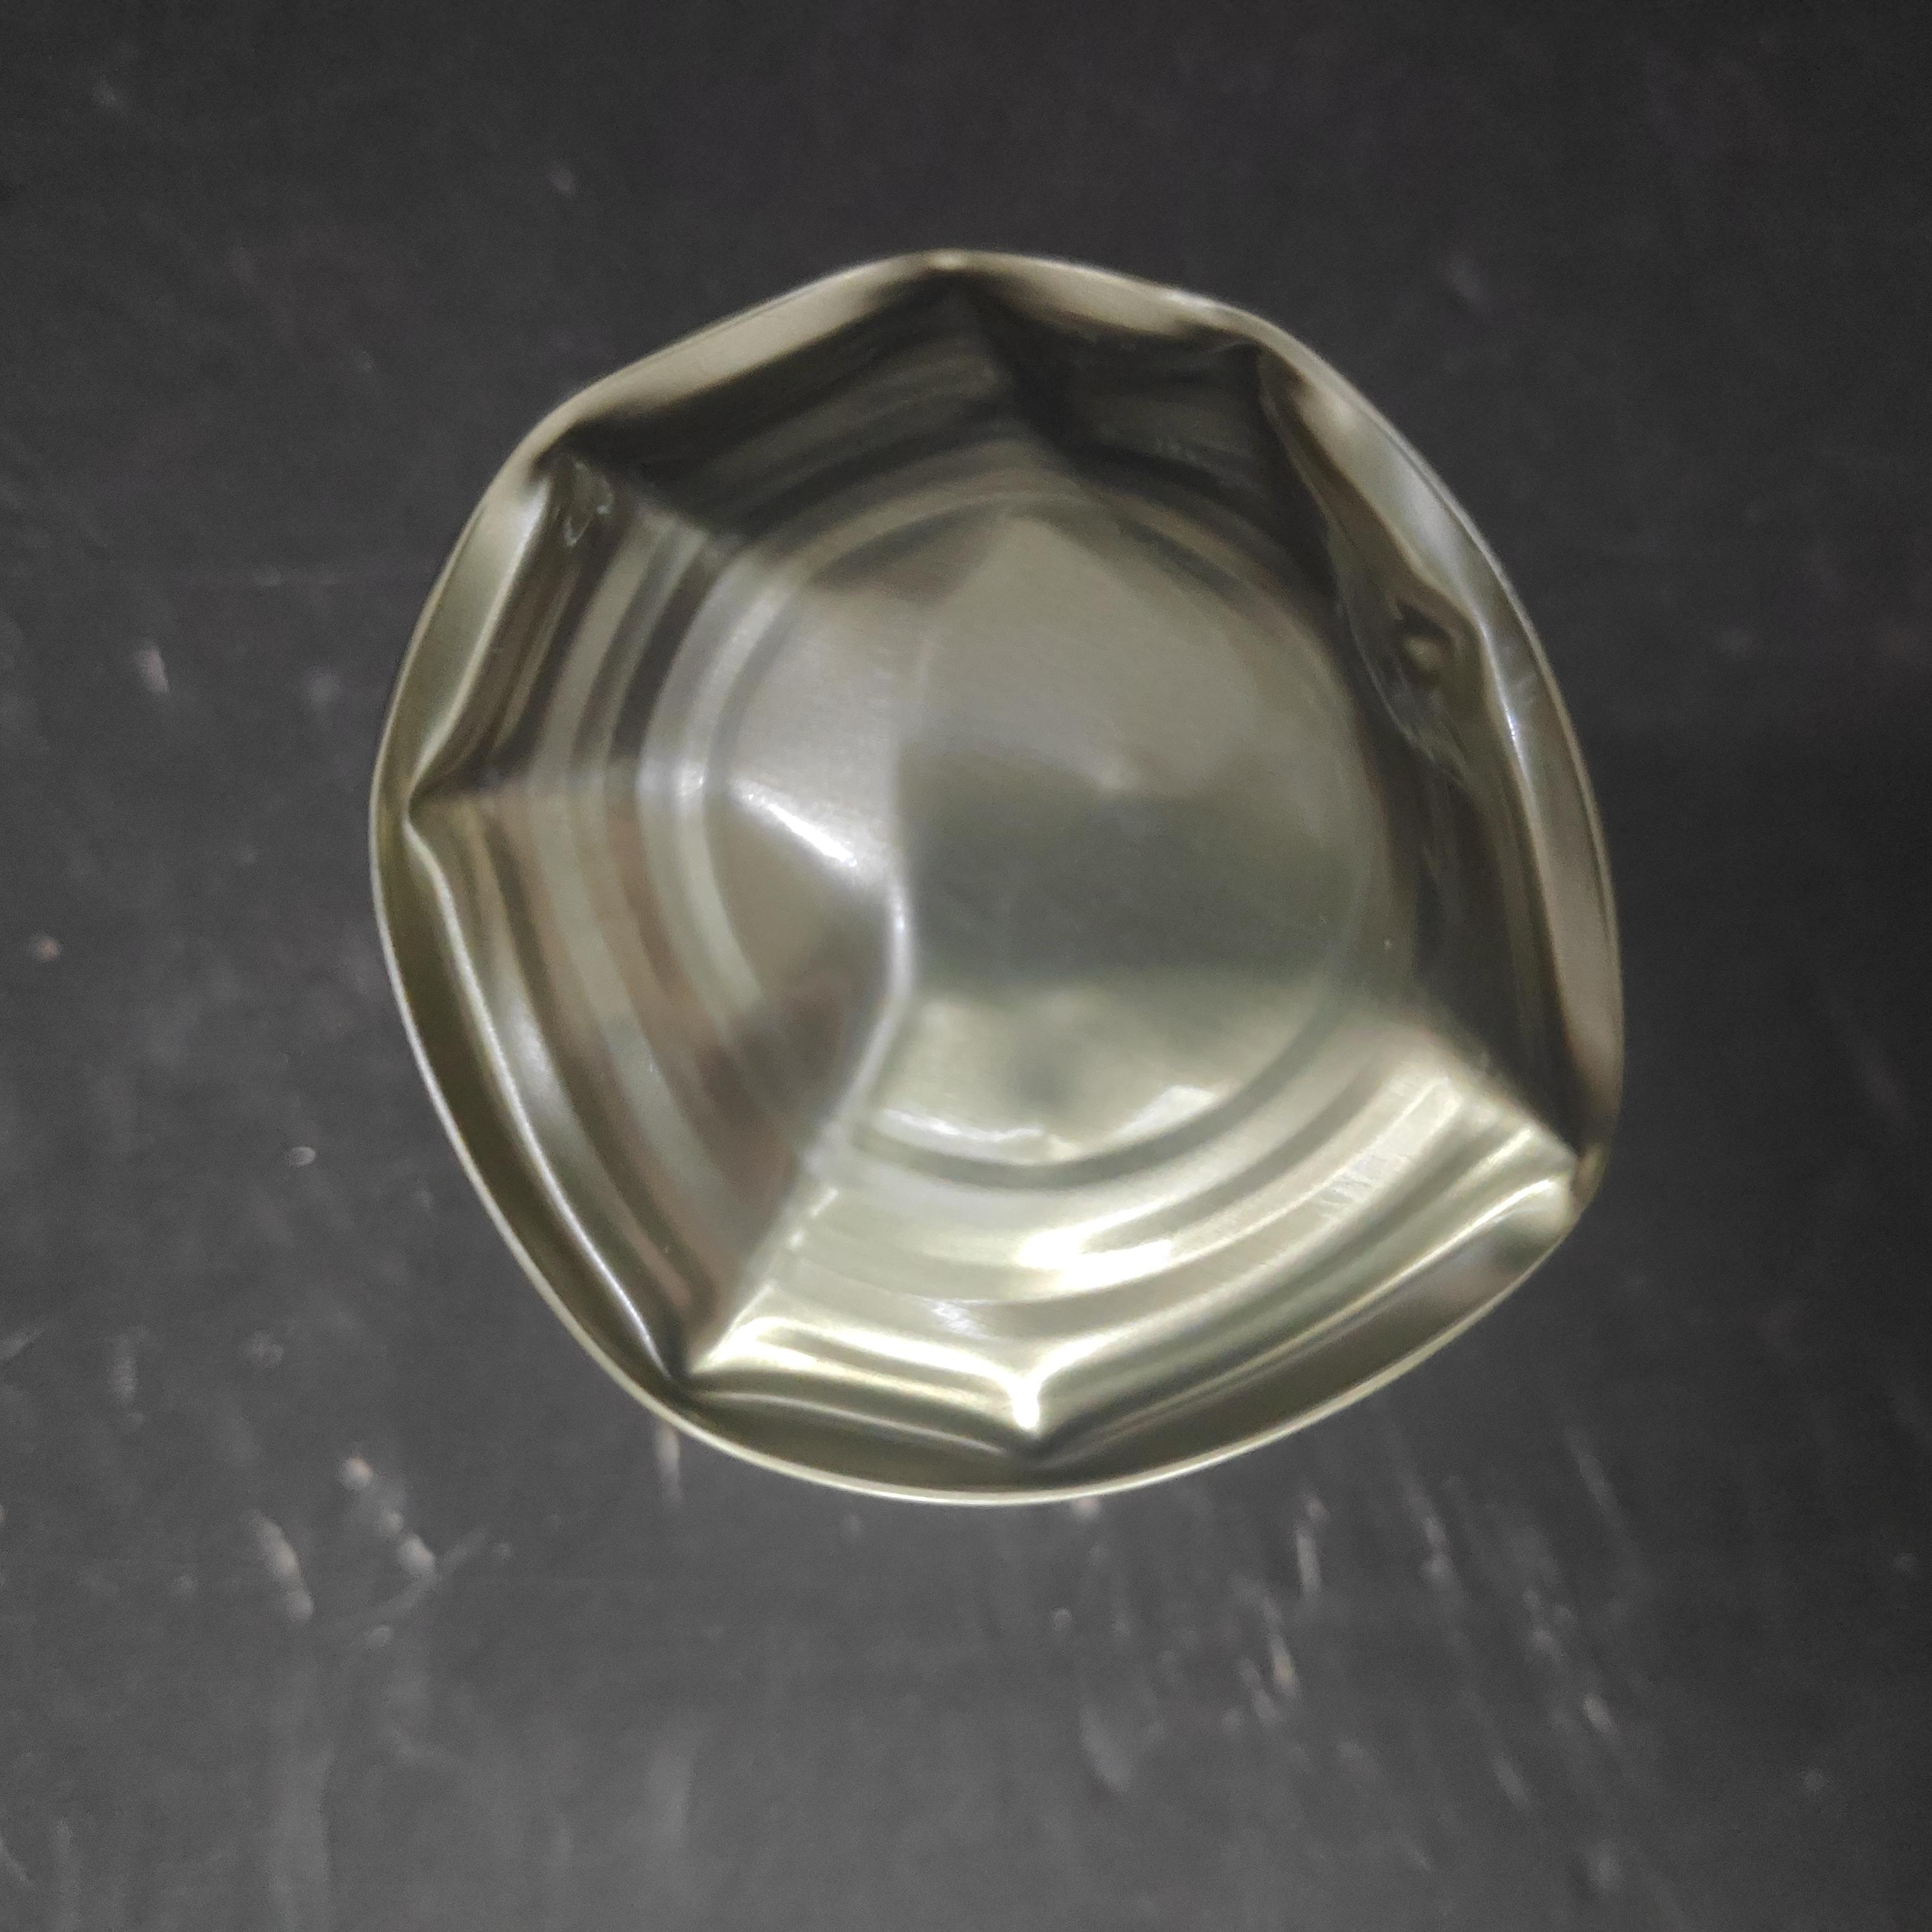Critical Defect: (410, 356, 1711, 1640)
